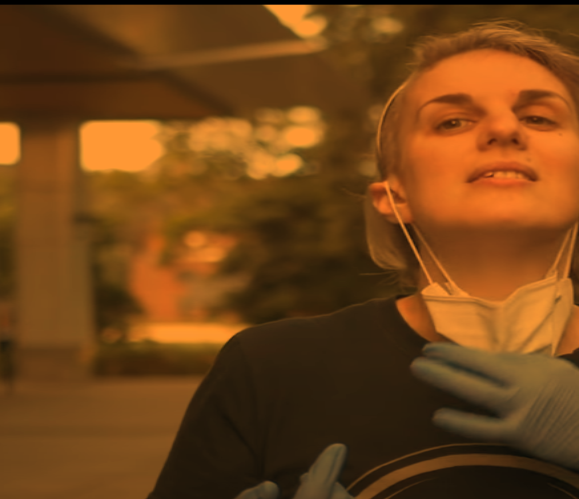mask_weared_incorrect: (370, 19, 579, 348)
